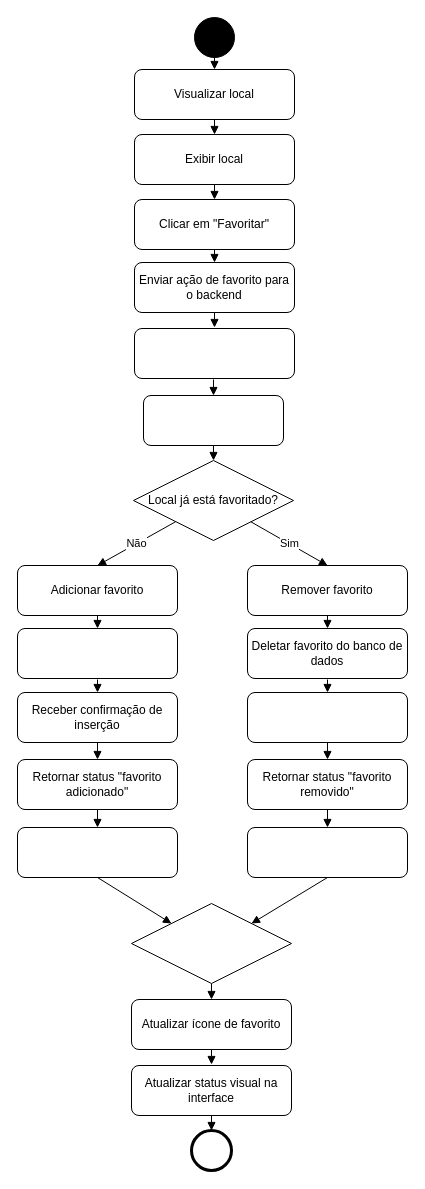
This 425x1189 diagram has some shape labels left out. The box of each missing label's shape, as (x1, y1, x2, y2) in pixels:
Buscar favorito no banco de dados: (142, 394, 284, 446)
Exibir mensagem "Favorito adicionado": (16, 826, 178, 878)
Exibir mensagem "Favorito removido": (246, 826, 408, 878)
Inserir favorito no banco de dados: (16, 628, 178, 678)
Receber confirmação de remoção: (246, 692, 408, 742)
Verificar status de favorito no sistema: (134, 328, 294, 378)
